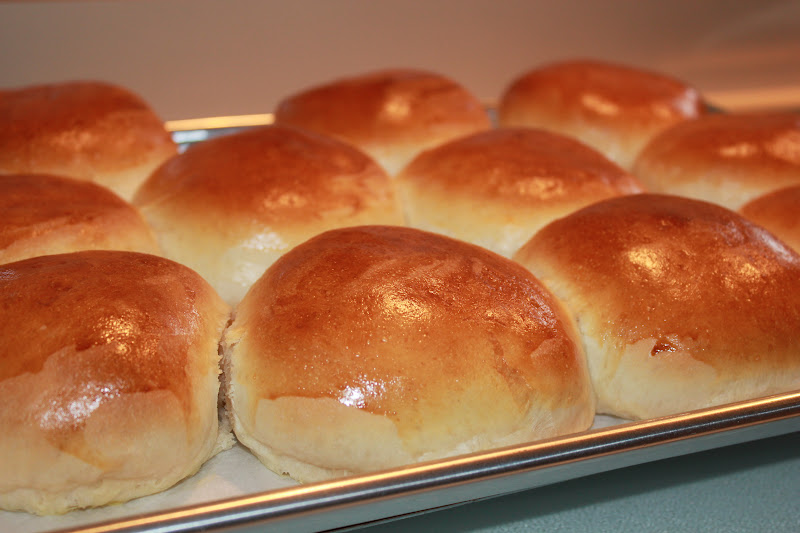hamburger_buns: (240, 211, 592, 450), (261, 38, 638, 251), (1, 259, 289, 494), (118, 107, 389, 280)
